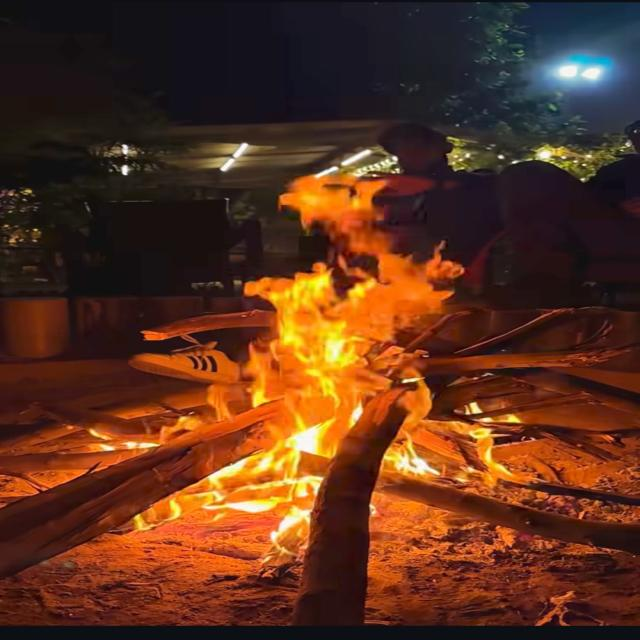fire: (247, 255, 458, 459), (135, 455, 321, 562), (282, 170, 398, 255), (471, 426, 521, 492), (85, 427, 159, 452)
